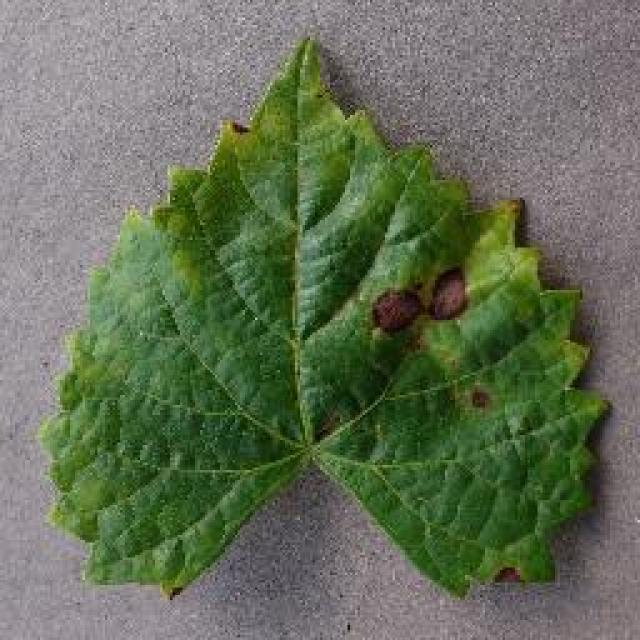Grape___Black_rot: (24, 26, 620, 610)
